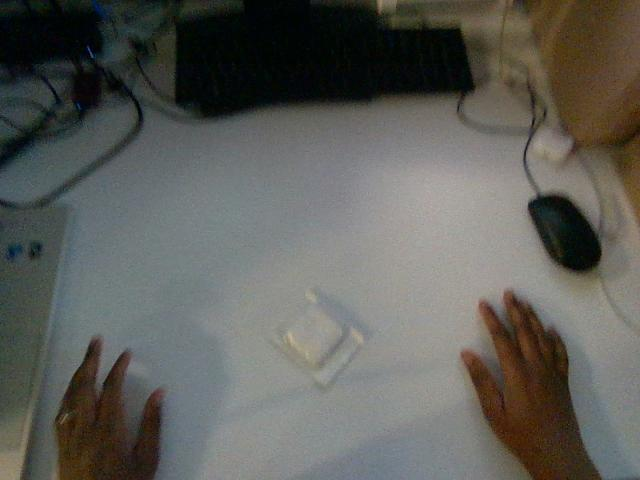gauze: (272, 291, 363, 387)
